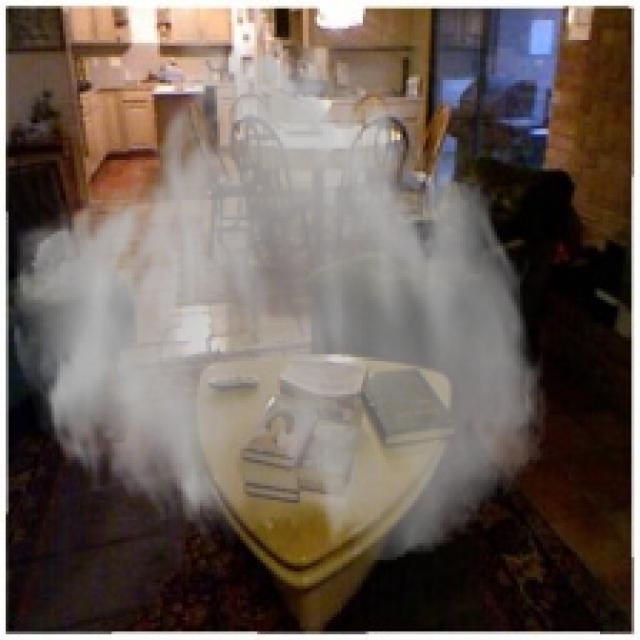Smoke: (6, 14, 552, 566)
